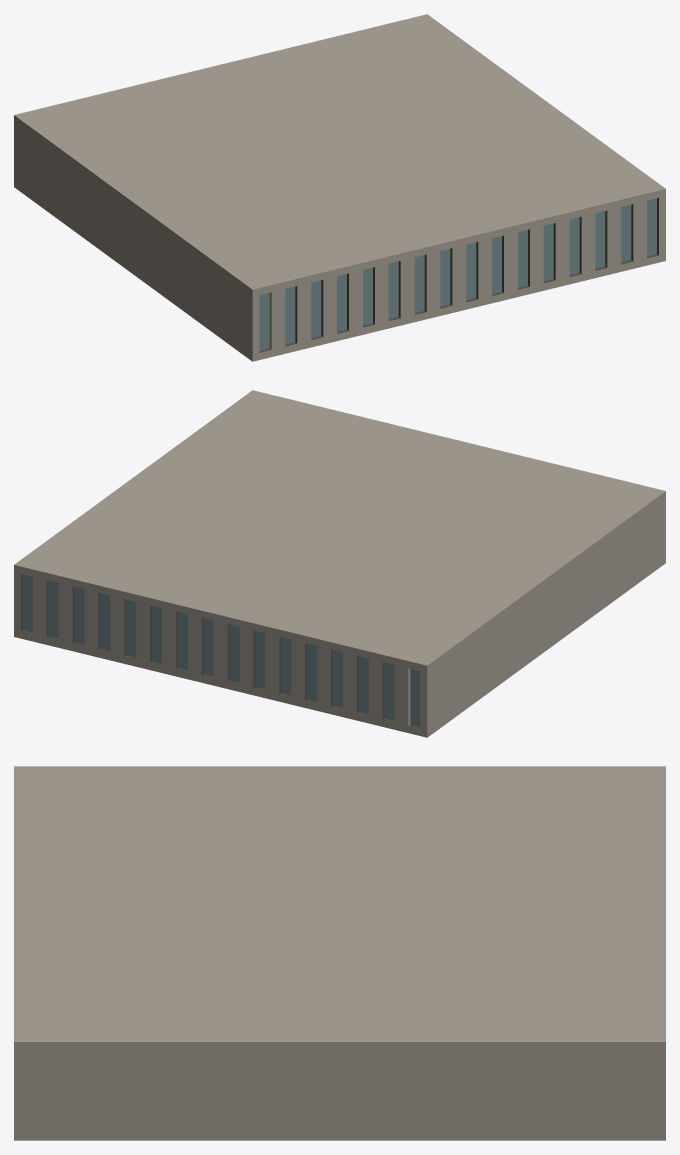
Rendered from Split_Connect.fbx.
The picture shows the model from 3 angles, top to bottom: view 1: azimuth 30°, elevation 25°; view 2: azimuth 150°, elevation 25°; view 3: azimuth 270°, elevation 25°; orthographic projection. The views are drawn at different scales.
Parts seen in each view (by area): view 1: Split_Center; view 2: Split_Center; view 3: Split_Center.
Part boxes in pixels (x1,y1,x2,y2): Split_Center: (14,14,665,361); Split_Center: (14,390,665,737); Split_Center: (14,766,665,1140).
Bounding box in the file's own units: 3000 × 500 × 3000.
